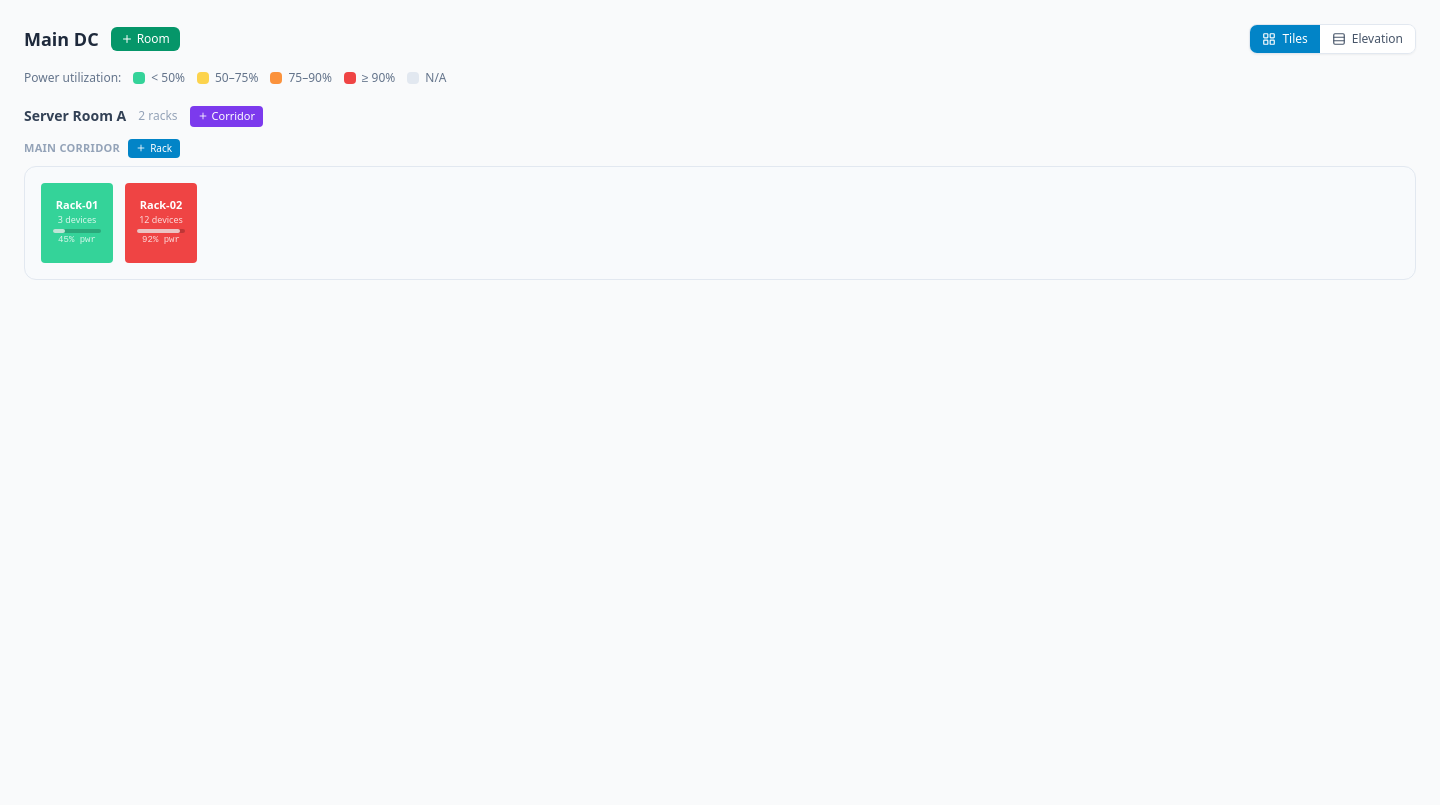
Test: DatacenterFloorPlan › right panel closes when X button is clicked
Check: the heading "Server Room A" is shown, box [24,106,126,126]
// Open the panel
Click the text "Rack-01" at x=77, y=205, box [56,197,98,212]
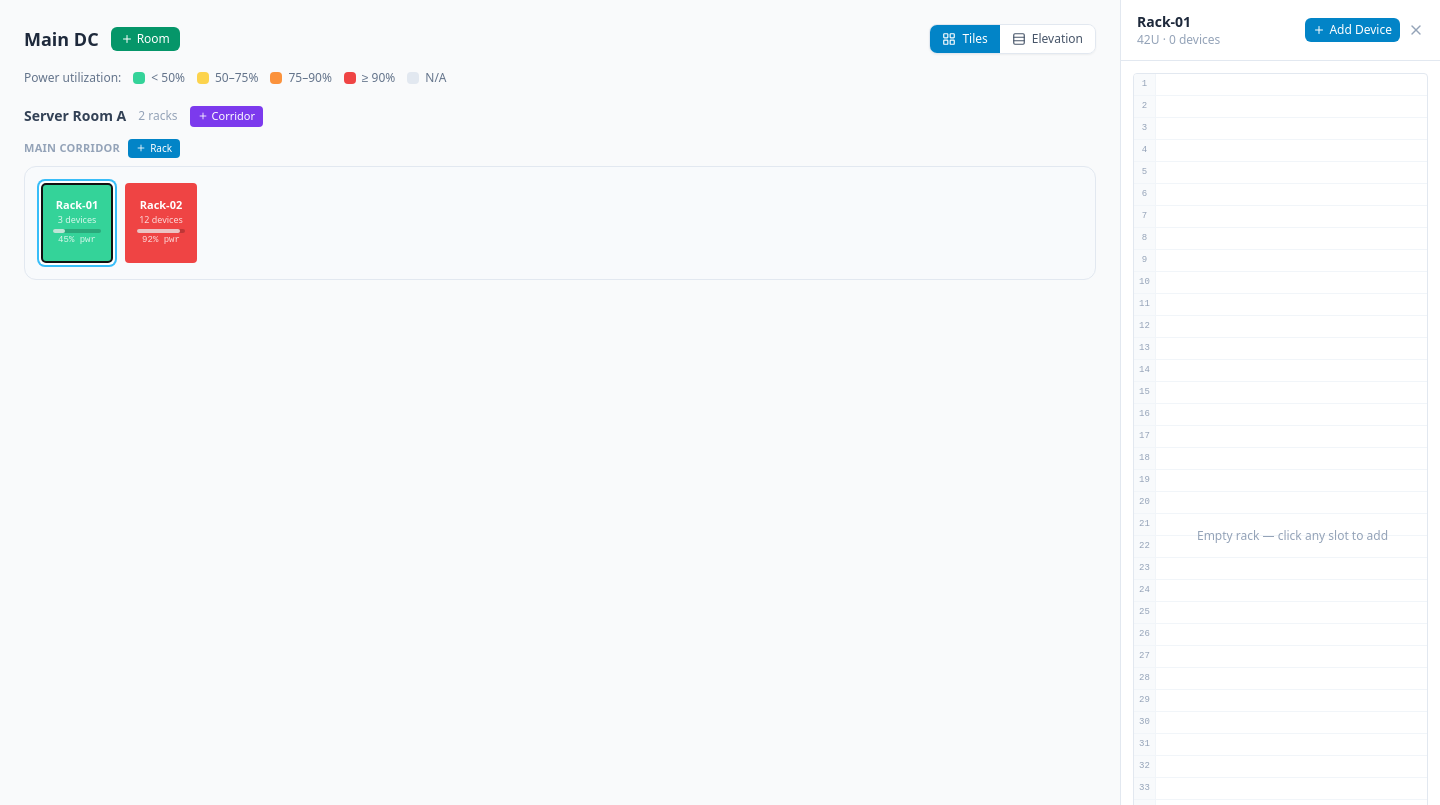
Check: the button "Add Device" is shown, box [1305,18,1400,42]
// The X button in the panel header is the last one
Click the 5th button at x=1416, y=30, box [1408,22,1424,38]
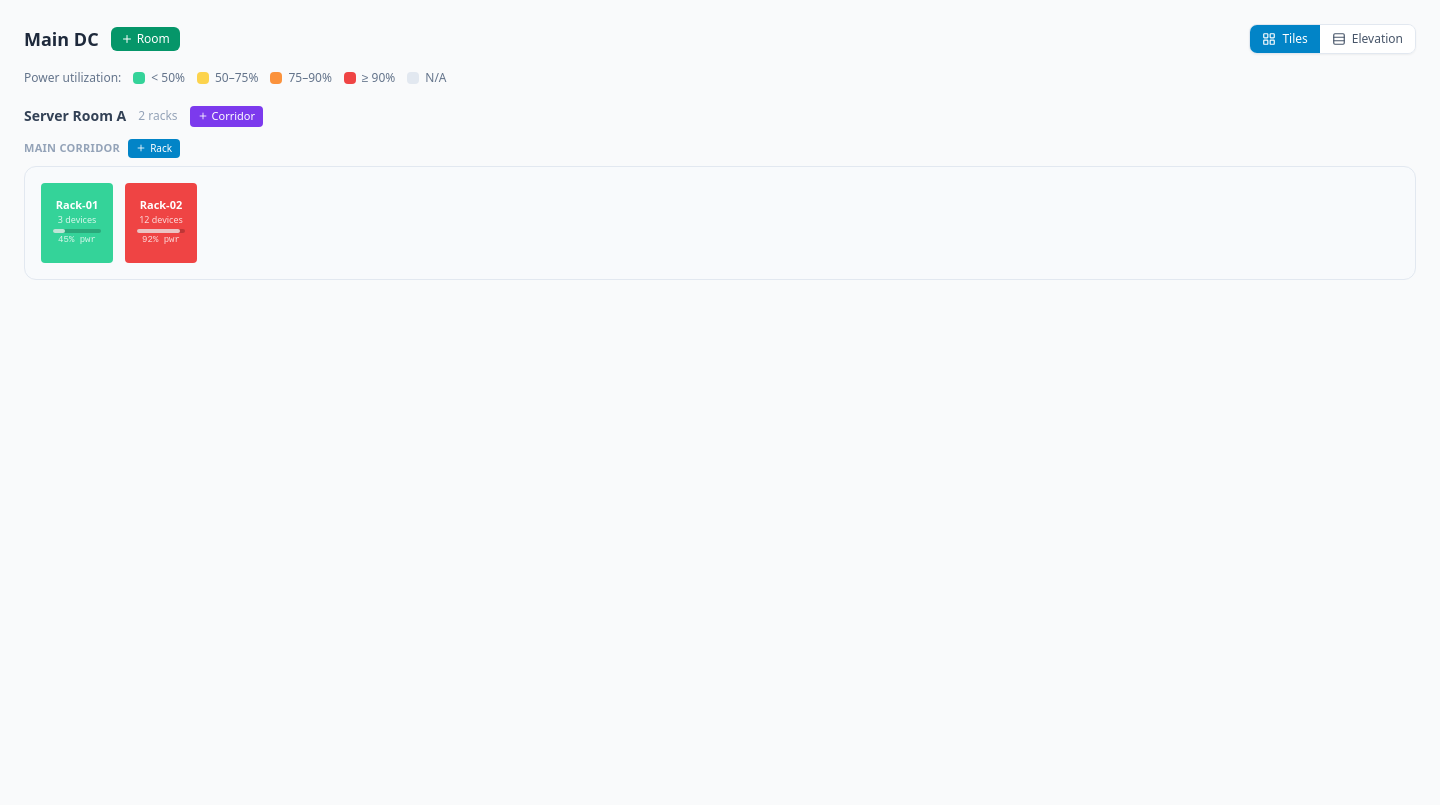
Check: the button "Add Device" is gone
